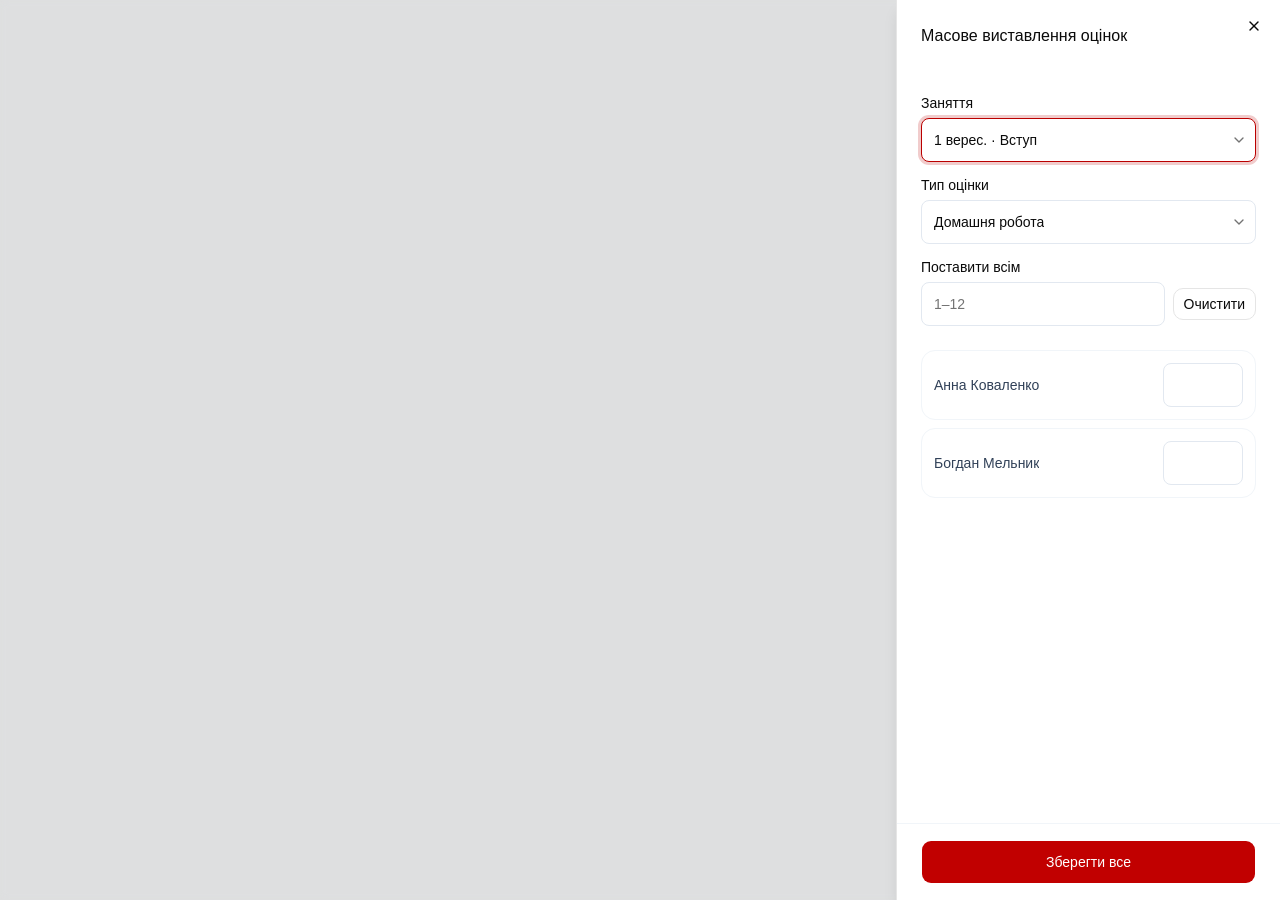
BulkGradeForm › «Очистити» стирає і оцінки, і поле «Поставити всім»
In the number field labelled "Поставити всім": [1043, 304] box left=921, top=282, right=1164, bottom=326, type "10"
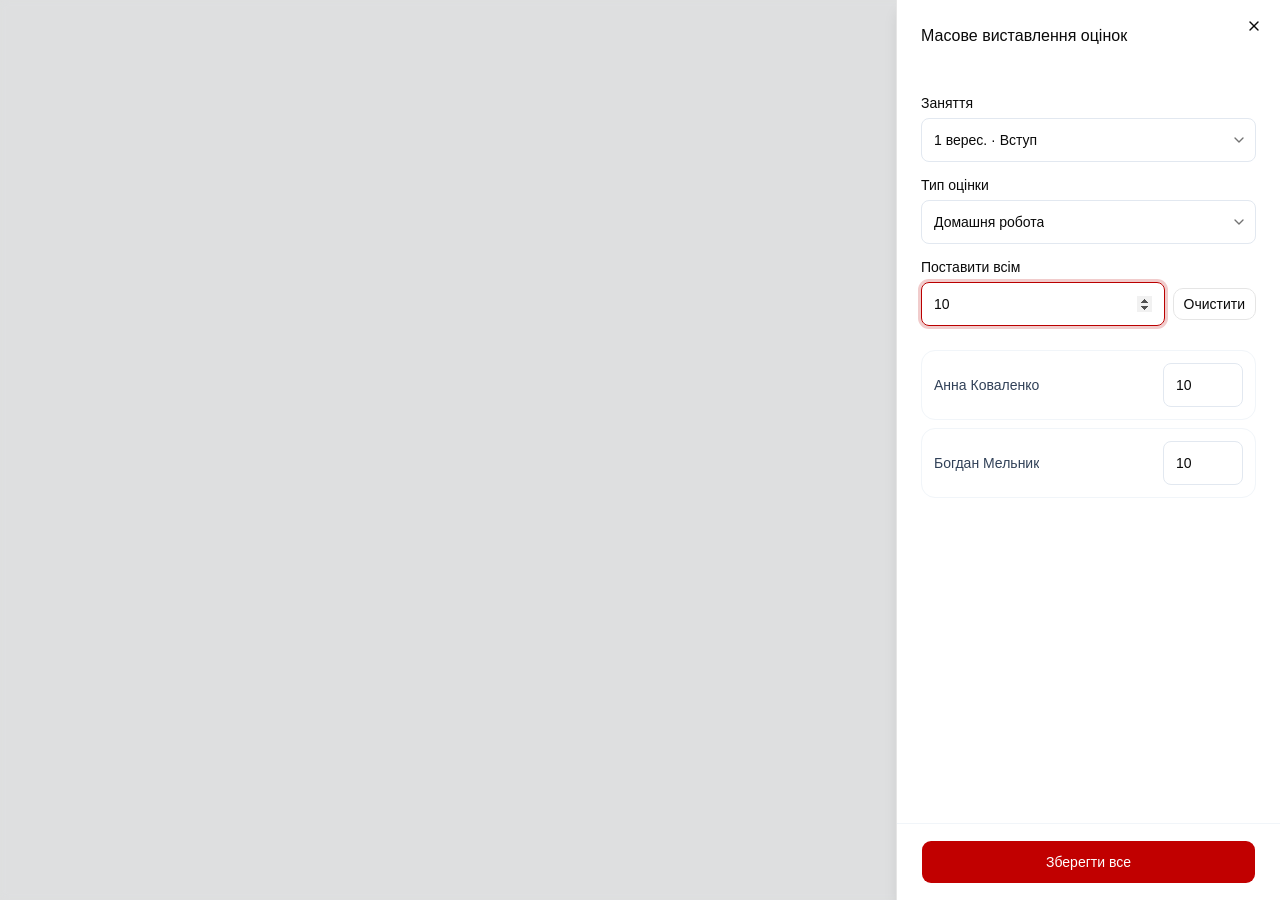
Result: the number field named "Оцінка для Анна Коваленко" holds "10" at left=1163, top=363, right=1243, bottom=407
Click the button "Очистити": [1214, 304] box left=1172, top=288, right=1256, bottom=320
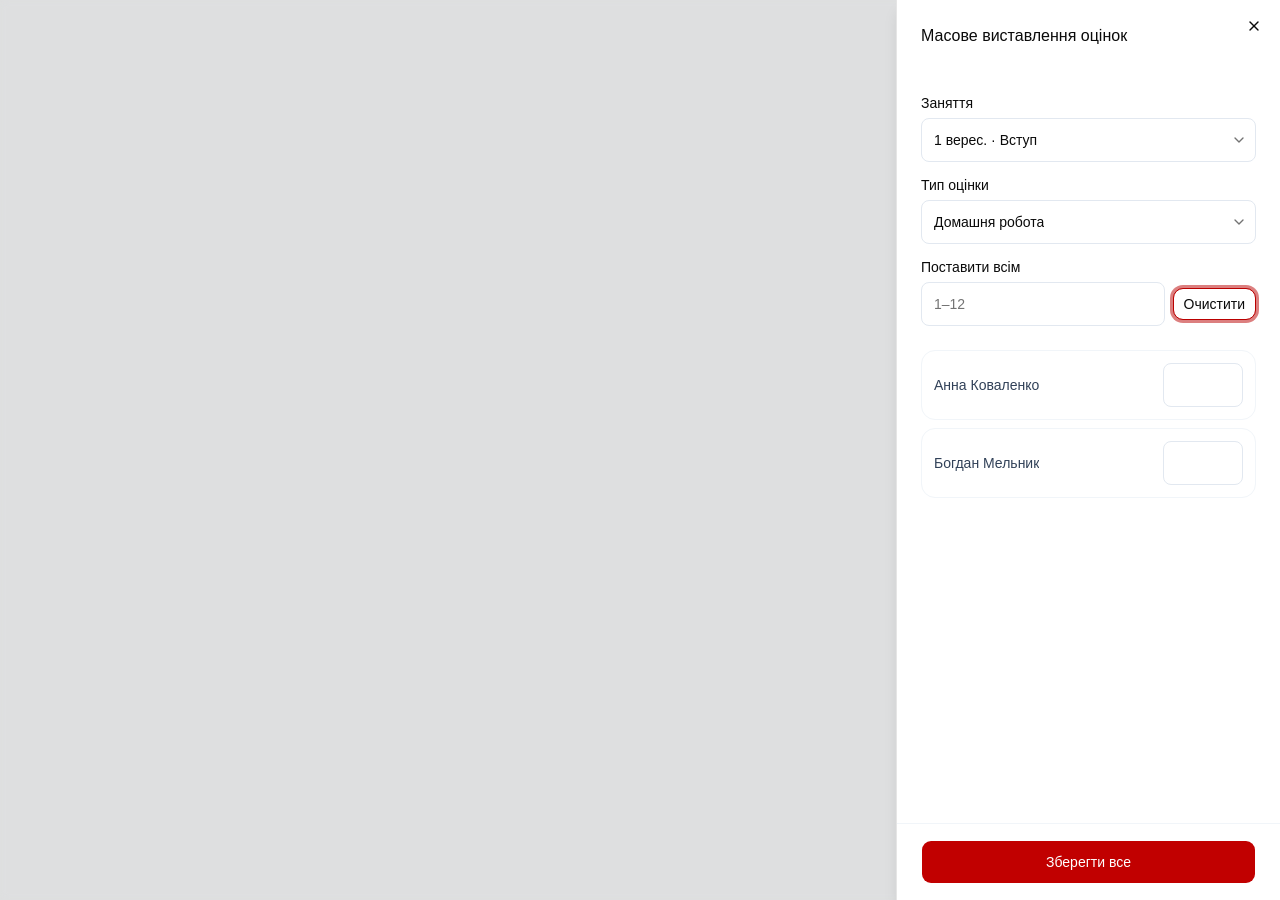
Result: the number field labelled "Поставити всім" is not empty at left=921, top=282, right=1164, bottom=326
Result: the number field named "Оцінка для Анна Коваленко" is not empty at left=1163, top=363, right=1243, bottom=407
